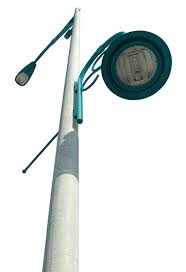light_pole: (39, 15, 90, 272)
